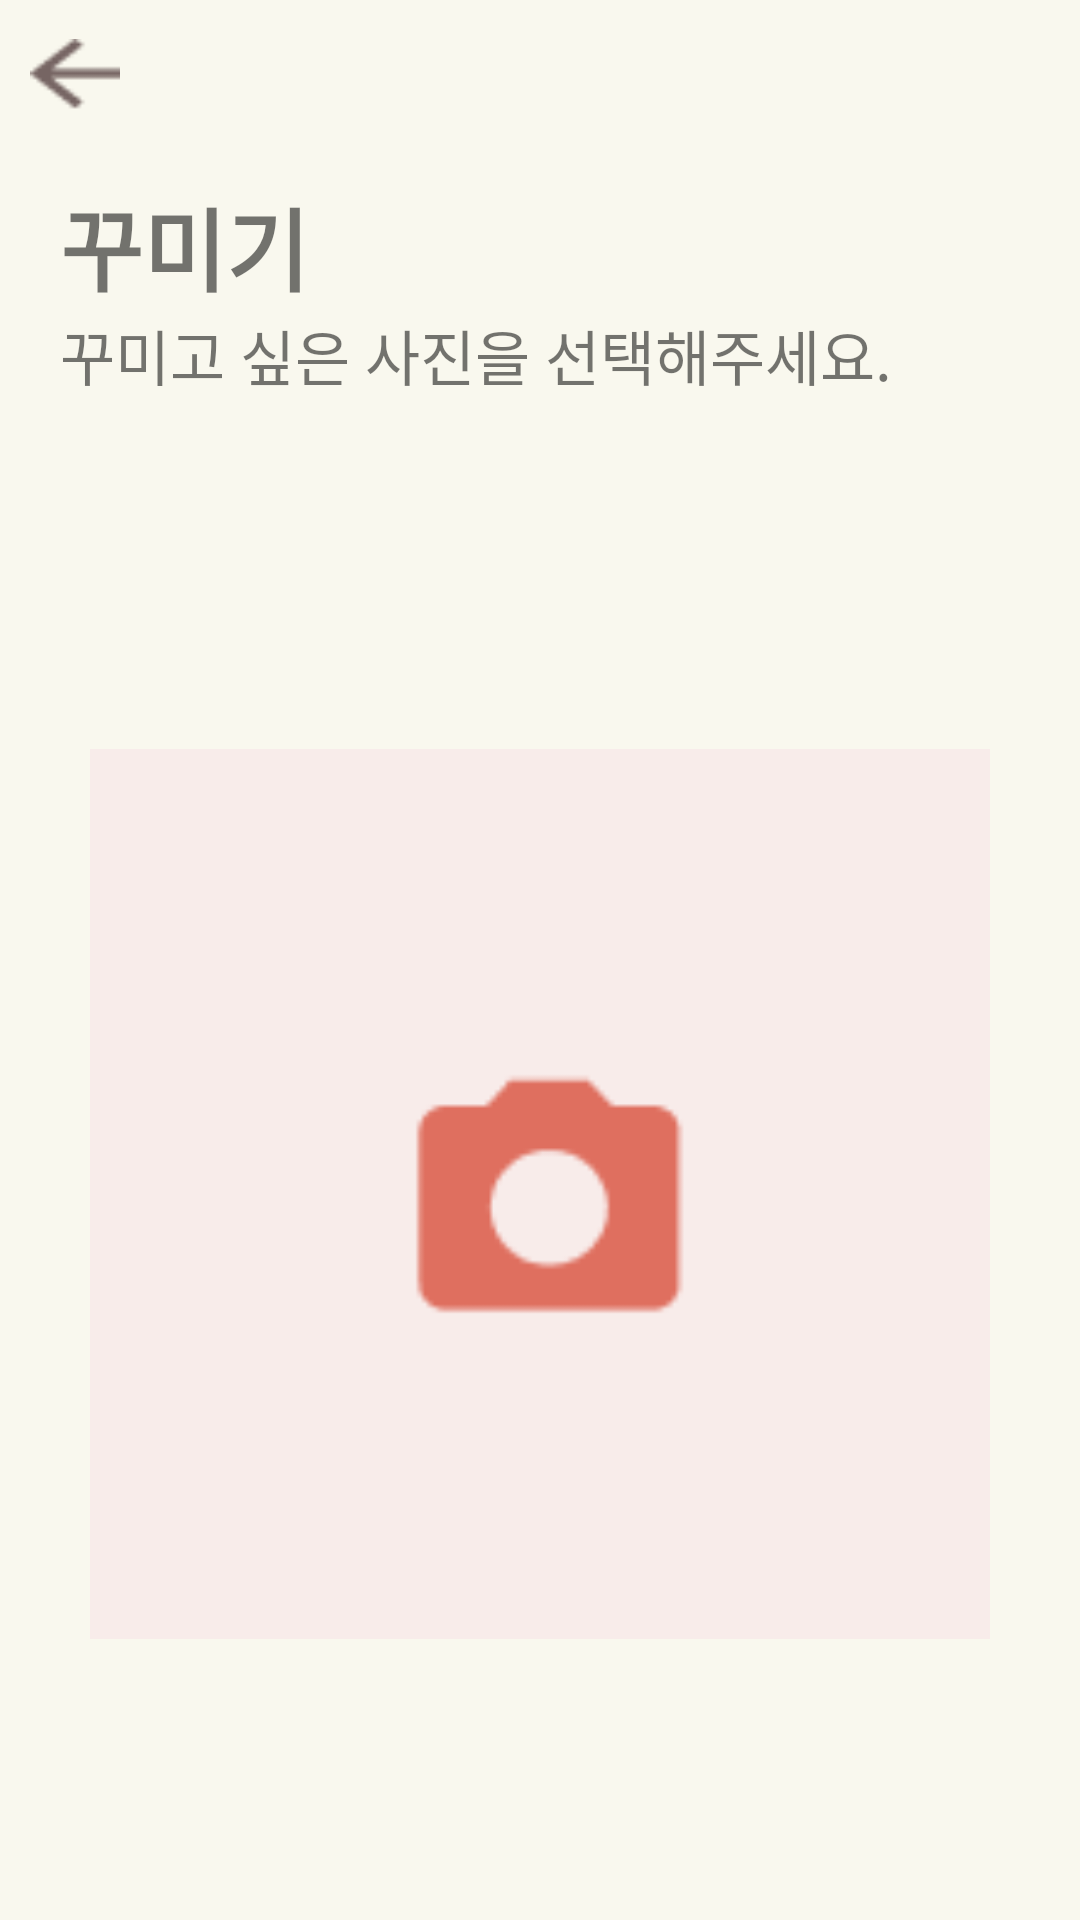

Icons on this 1080 x 1920 Android screen, each with the point to tap as (x=x, y=y):
backarrow: (x=75, y=74)
